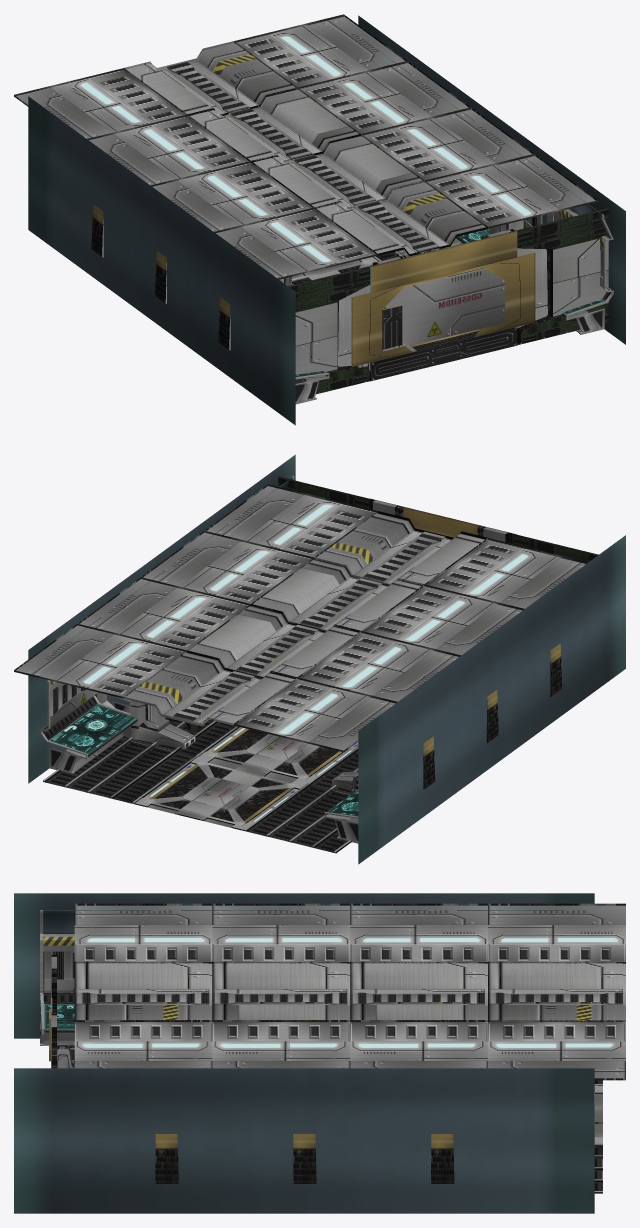
The picture shows the model from 3 angles, top to bottom: view 1: azimuth 30°, elevation 25°; view 2: azimuth 150°, elevation 25°; view 3: azimuth 270°, elevation 25°; orthographic projection. The views are drawn at different scales.
Visible parts, largest first — view 1: pPlane2_网格.027, Main_Door_网格.022, Side_Doors_网格.023, MainCeiling_Tile_3_网格.021, MainCeiling_Tile_6_网格.057, Left_SideCeiling_Tile_20_网格.055, Left_SideCeiling_Tile_17_网格.052, MainCeiling_Tile_4_网格.056, Left_SideCeiling_Tile_19_网格.054, Left_SideCeiling_Tile_18_网格.053, MainCeiling_Tile_7_网格.058, Left_SideCeiling_Tile_06_网格.020 (+8 smaller); view 2: pPlane2_网格.027, MainCeiling_Tile_3_网格.021, Left_SideCeiling_Tile_17_网格.052, Left_SideCeiling_Tile_18_网格.053, Left_SideCeiling_Tile_19_网格.054, Left_SideCeiling_Tile_20_网格.055, MainCeiling_Tile_6_网格.057, MainCeiling_Tile_4_网格.056, MainFloor_Tile_03_网格.018, MainCeiling_Tile_7_网格.058, Left_SideCeiling_Tile_06_网格.020, MainCeiling_Tile7_网格.017 (+11 smaller); view 3: pPlane2_网格.027, MainCeiling_Tile_3_网格.021, Left_SideCeiling_Tile_16_网格.051, Left_SideCeiling_Tile_15_网格.050, Left_SideCeiling_Tile_14_网格.049, Left_SideCeiling_Tile_06_网格.020, MainCeiling_Tile_7_网格.058, MainCeiling_Tile_6_网格.057, MainCeiling_Tile_4_网格.056, Left_SideCeiling_Tile_17_网格.052, Left_SideCeiling_Tile_19_网格.054, Left_SideCeiling_Tile_20_网格.055 (+8 smaller).
Part boxes in pixels (bbox=[...]): pPlane2_网格.027: bbox=[28, 15, 625, 425]; Main_Door_网格.022: bbox=[351, 230, 535, 381]; Side_Doors_网格.023: bbox=[288, 208, 608, 394]; MainCeiling_Tile_3_网格.021: bbox=[124, 41, 297, 115]; MainCeiling_Tile_6_网格.057: bbox=[315, 180, 487, 256]; Left_SideCeiling_Tile_20_网格.055: bbox=[424, 154, 597, 228]; Left_SideCeiling_Tile_17_网格.052: bbox=[234, 14, 406, 88]; MainCeiling_Tile_4_网格.056: bbox=[187, 87, 360, 162]; Left_SideCeiling_Tile_19_网格.054: bbox=[361, 107, 534, 181]; Left_SideCeiling_Tile_18_网格.053: bbox=[297, 61, 470, 135]; MainCeiling_Tile_7_网格.058: bbox=[253, 134, 423, 208]; Left_SideCeiling_Tile_06_网格.020: bbox=[14, 68, 187, 139]; pPlane2_网格.027: bbox=[28, 454, 625, 864]; MainCeiling_Tile_3_网格.021: bbox=[124, 650, 297, 726]; Left_SideCeiling_Tile_17_网格.052: bbox=[14, 624, 187, 698]; Left_SideCeiling_Tile_18_网格.053: bbox=[77, 577, 250, 651]; Left_SideCeiling_Tile_19_网格.054: bbox=[141, 530, 314, 604]; Left_SideCeiling_Tile_20_网格.055: bbox=[205, 484, 377, 557]; MainCeiling_Tile_6_网格.057: bbox=[314, 511, 487, 585]; MainCeiling_Tile_4_网格.056: bbox=[188, 604, 360, 677]; MainFloor_Tile_03_网格.018: bbox=[134, 757, 306, 830]; MainCeiling_Tile_7_网格.058: bbox=[251, 559, 424, 631]; Left_SideCeiling_Tile_06_网格.020: bbox=[234, 677, 397, 752]; MainCeiling_Tile7_网格.017: bbox=[40, 615, 358, 843]; pPlane2_网格.027: bbox=[14, 893, 594, 1213]; MainCeiling_Tile_3_网格.021: bbox=[488, 961, 625, 1021]; Left_SideCeiling_Tile_16_网格.051: bbox=[74, 903, 212, 963]; Left_SideCeiling_Tile_15_网格.050: bbox=[212, 903, 350, 963]; Left_SideCeiling_Tile_14_网格.049: bbox=[350, 903, 487, 963]; Left_SideCeiling_Tile_06_网格.020: bbox=[488, 903, 625, 963]; MainCeiling_Tile_7_网格.058: bbox=[212, 961, 350, 1021]; MainCeiling_Tile_6_网格.057: bbox=[74, 961, 212, 1021]; MainCeiling_Tile_4_网格.056: bbox=[350, 961, 487, 1021]; Left_SideCeiling_Tile_17_网格.052: bbox=[488, 1020, 625, 1080]; Left_SideCeiling_Tile_19_网格.054: bbox=[212, 1020, 350, 1068]; Left_SideCeiling_Tile_20_网格.055: bbox=[74, 1020, 212, 1068].
Size of the model in its own units: 18.29 by 6.98 by 26.64.
